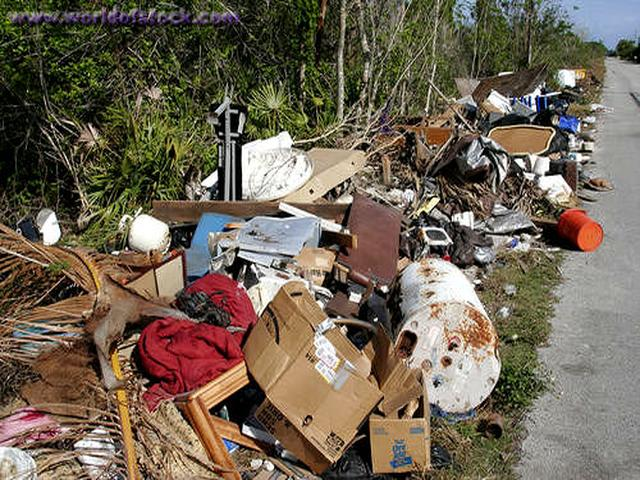garbage: (12, 236, 430, 462), (277, 145, 559, 239), (460, 73, 577, 165)
